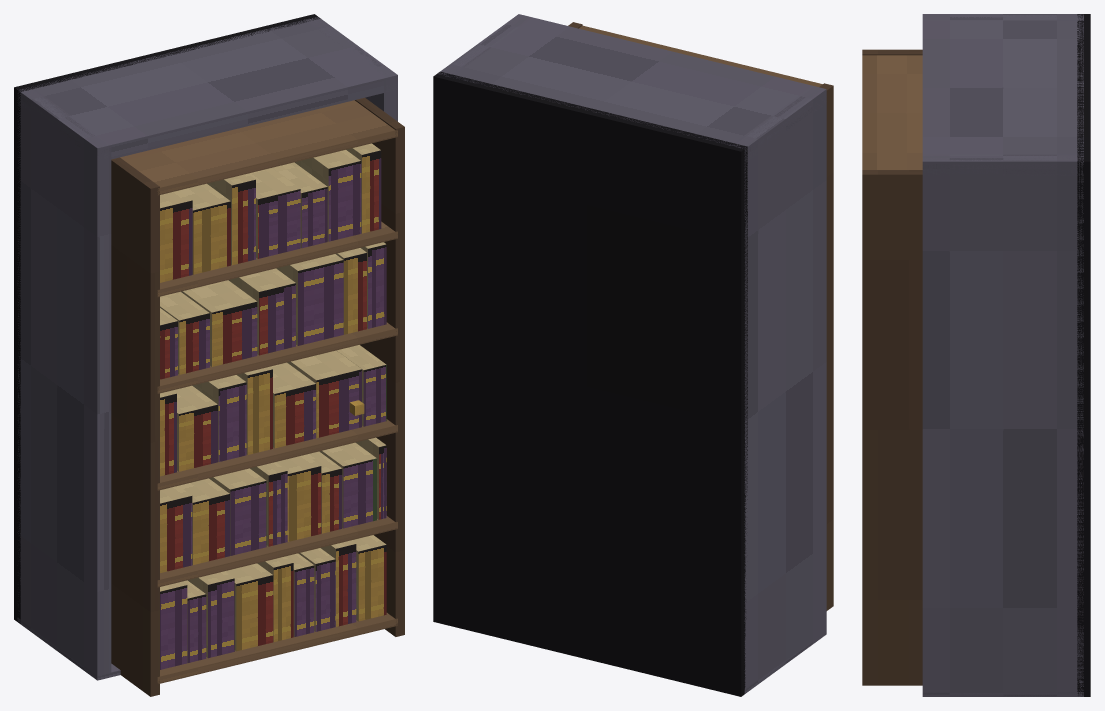
Rendered from secret-bookcase.glb.
3 views of the same model, side by side, from view 1: azimuth 30°, elevation 25°; view 2: azimuth 150°, elevation 25°; view 3: azimuth 270°, elevation 25° (orthographic). The views are drawn at different scales.
Parts seen in each view (by area): view 1: bookcase, frame.002; view 2: frame.002, bookcase; view 3: frame.002, bookcase.
Boxes of the visible parts, x1=… form: bookcase: x1=111, y1=97, x2=404, y2=696; frame.002: x1=14, y1=14, x2=397, y2=680; frame.002: x1=433, y1=14, x2=826, y2=696; bookcase: x1=568, y1=22, x2=833, y2=610; frame.002: x1=922, y1=14, x2=1090, y2=696; bookcase: x1=862, y1=49, x2=922, y2=685.
Size of the model in its own units: 1.3 by 2.2 by 0.85.
Materials: 1 (1 with a texture image).
